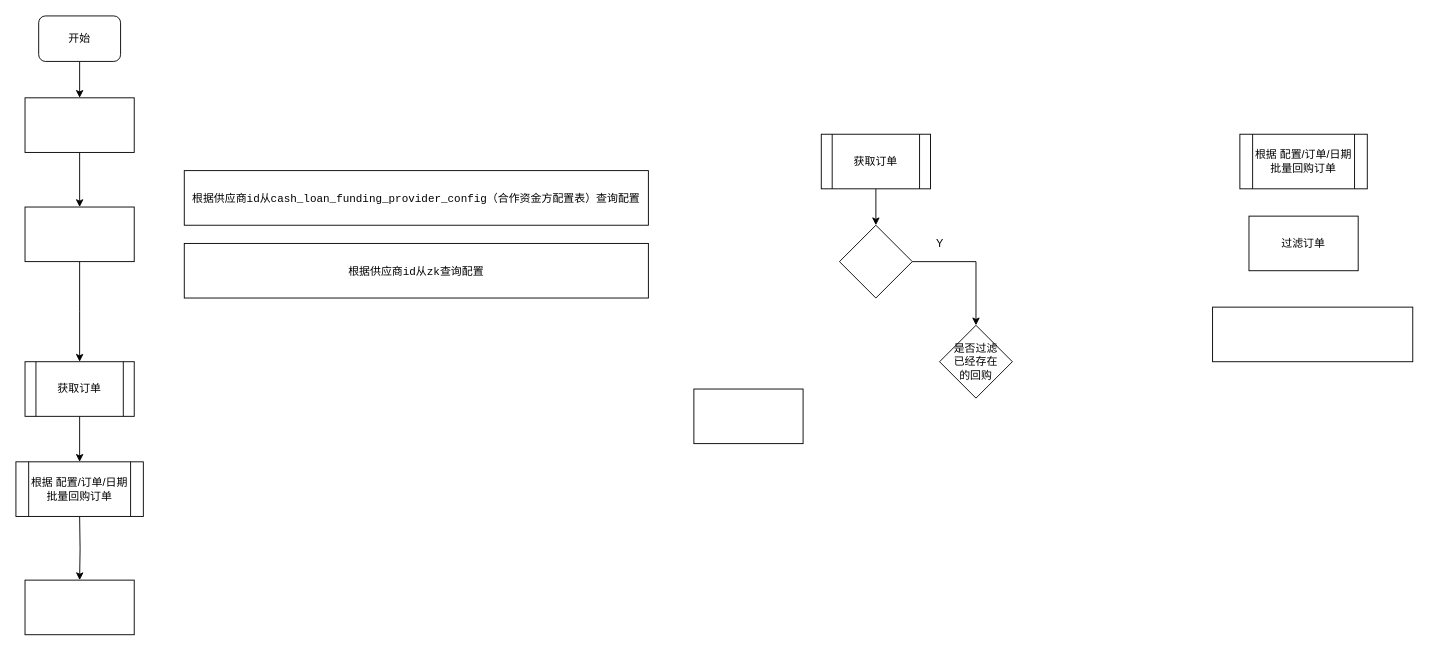
The diagram is 1429 pixels wide and 651 high, and some of its shapes have lost their labels. The shapes that lost their labels are listed below. From the top down, each one's centre as x and y in pixels, then its label:
point 79,124: 获取时间段
point 79,234: 根据资方id获取 资方配置
point 875,261: 是否指定 订单id
point 1312,334: 根据工厂类找到 IAutoRepurchaseService 的实现类为 SxBankAutoRepurchaseService
point 79,607: 回购失败发送邮箱
